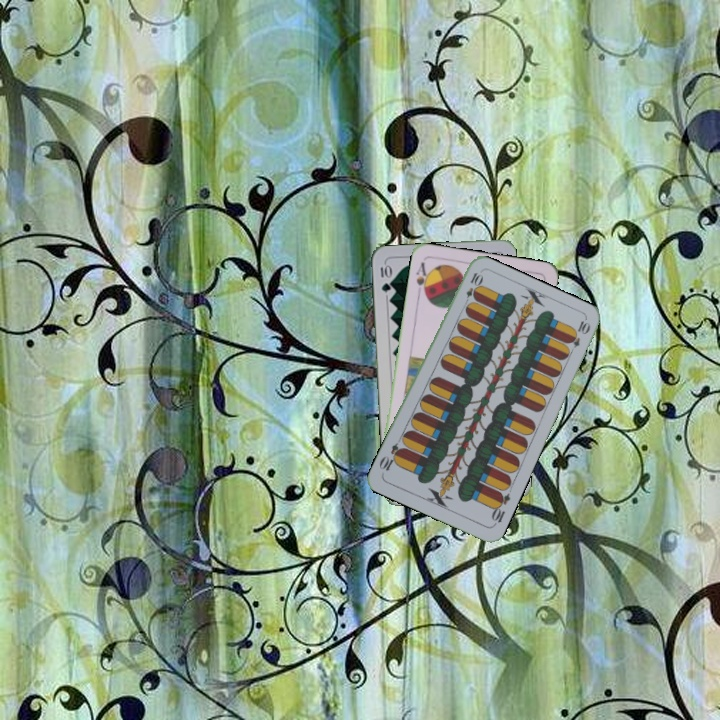E10: (487, 488, 513, 528), (460, 268, 484, 308)
G10: (376, 261, 393, 295)
SA: (412, 258, 432, 299)
